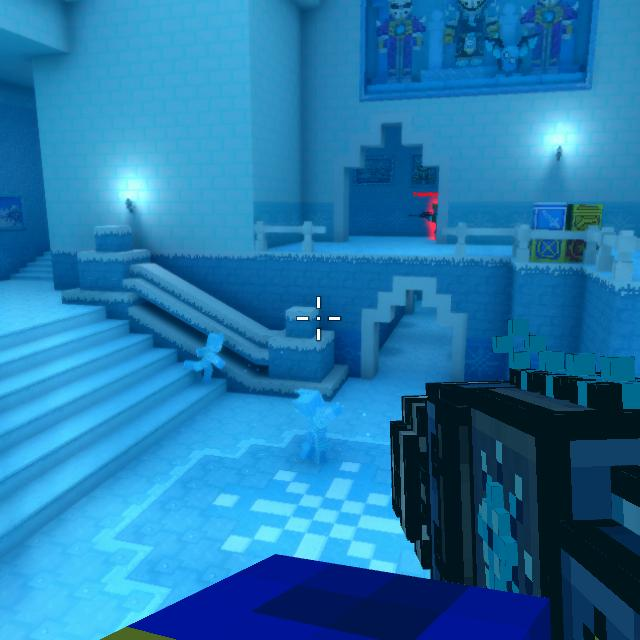Enemy: (427, 202, 438, 240)
